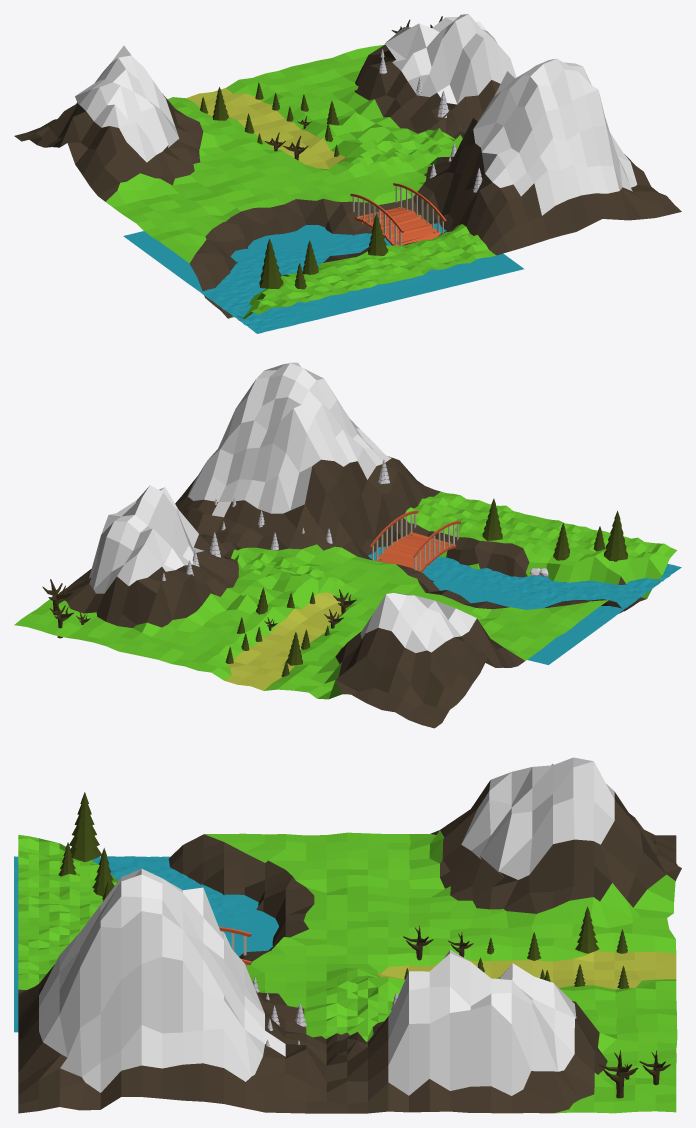
File: Terrain.fbx
The picture shows the model from 3 angles, top to bottom: view 1: azimuth 30°, elevation 25°; view 2: azimuth 150°, elevation 25°; view 3: azimuth 270°, elevation 25°; orthographic projection. The views are drawn at different scales.
Parts seen in each view (by area): view 1: Plane.001_Plane, Plane.002, NurbsPath_Mesh, SapinHiver.015_Cylinder.034, SapinHiver.015_Cylinder.002; view 2: Plane.001_Plane, Plane.002, NurbsPath_Mesh, SapinHiver.015_Cylinder.034; view 3: Plane.001_Plane, Plane.002, SapinHiver.015_Cylinder.034, SapinHiver.015_Cylinder.013, Arbre_Automne_Cylinder.003, SapinHiver.015_Cylinder.001.
Part boxes in pixels (x1,y1,x2,y2): Plane.001_Plane: [14, 14, 681, 318]; Plane.002: [123, 223, 523, 333]; NurbsPath_Mesh: [354, 207, 440, 245]; SapinHiver.015_Cylinder.034: [259, 239, 283, 288]; SapinHiver.015_Cylinder.002: [368, 213, 388, 255]; Plane.001_Plane: [14, 362, 676, 728]; Plane.002: [368, 546, 681, 664]; NurbsPath_Mesh: [375, 532, 456, 571]; SapinHiver.015_Cylinder.034: [604, 511, 627, 561]; Plane.001_Plane: [18, 757, 681, 1113]; Plane.002: [14, 856, 278, 1032]; SapinHiver.015_Cylinder.034: [69, 792, 101, 861]; SapinHiver.015_Cylinder.013: [575, 906, 599, 953]; Arbre_Automne_Cylinder.003: [599, 1050, 638, 1098]; SapinHiver.015_Cylinder.001: [92, 848, 114, 896].
Bounding box in the file's own units: 2689 × 1208 × 2712.
